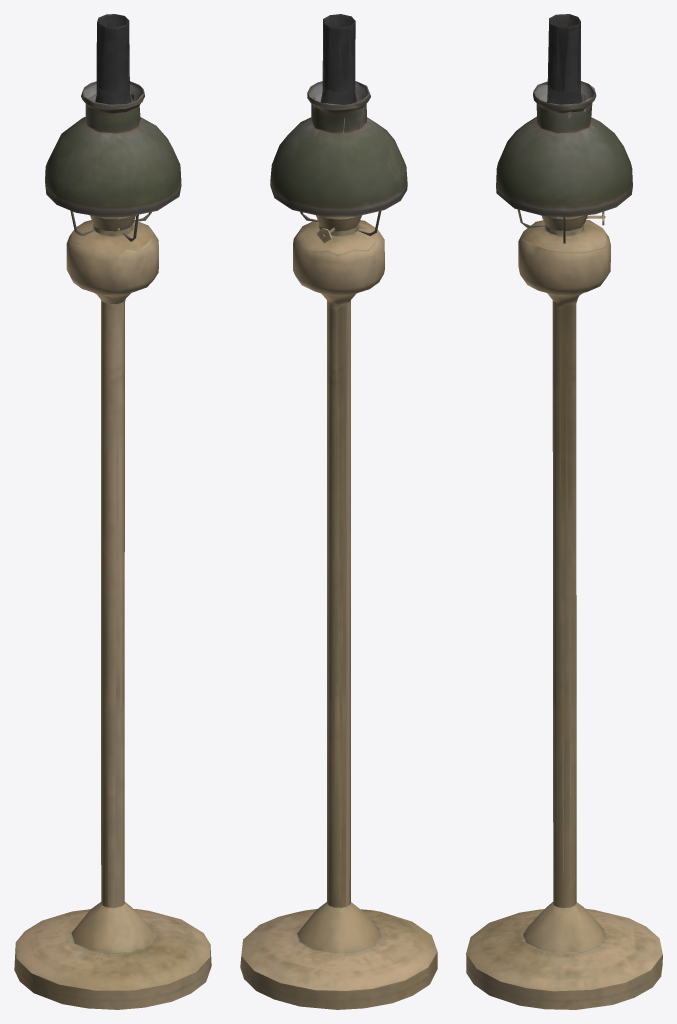
File: lamp-oil-hall-a.lod1.glb
3 views of the same model, side by side, from view 1: azimuth 30°, elevation 25°; view 2: azimuth 150°, elevation 25°; view 3: azimuth 270°, elevation 25° (orthographic).
Visible parts, largest first — view 1: lamp-oil-hall-a; view 2: lamp-oil-hall-a; view 3: lamp-oil-hall-a.
Boxes of the visible parts, x1,y1,x2,y2 form: lamp-oil-hall-a: (14,14,211,1009); lamp-oil-hall-a: (240,14,437,1009); lamp-oil-hall-a: (466,14,662,1009).
Size of the model in its own units: 0.2759 by 1.47 by 0.276.
Materials: 1 (1 with a texture image).
